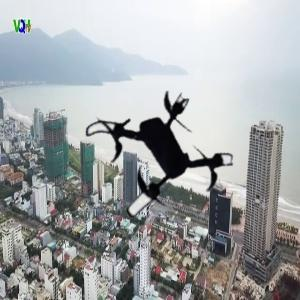drone: (79, 83, 232, 236)
